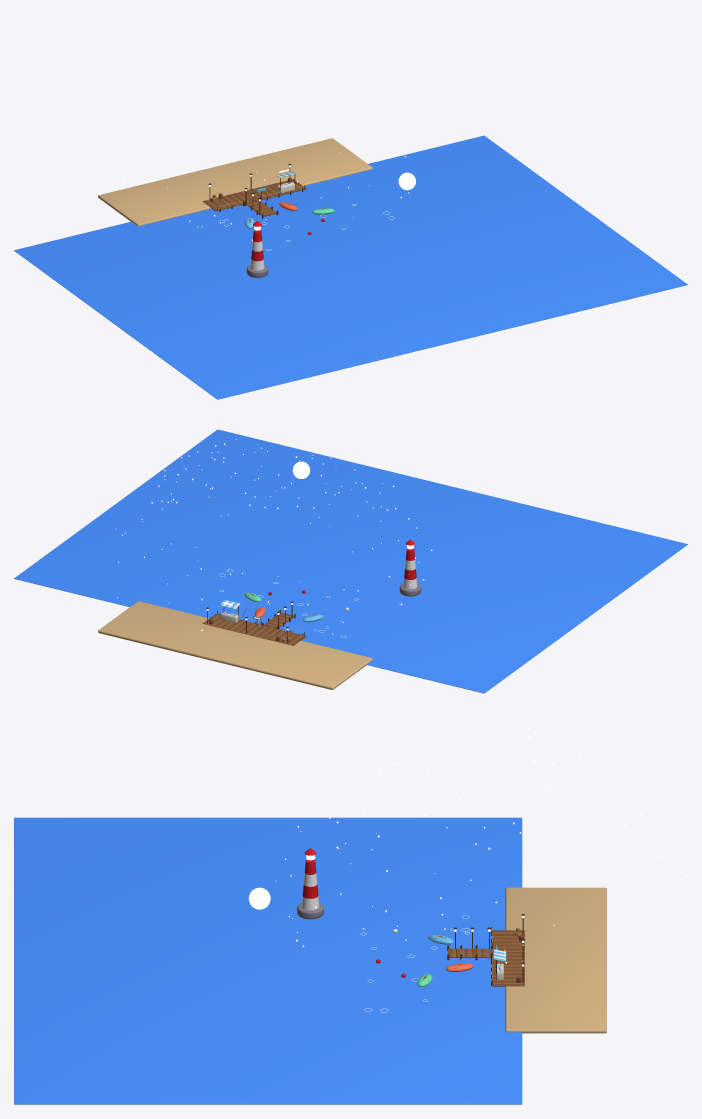
Rendered from room_port.glb.
3 views of the same model, one above another, from view 1: azimuth 30°, elevation 25°; view 2: azimuth 150°, elevation 25°; view 3: azimuth 270°, elevation 25° (orthographic). The views are drawn at different scales.
Visible parts, largest first — view 1: Water, Sand, Floor, Lighthouse; view 2: Water, Sand, Floor, Lighthouse; view 3: Water, Sand, Floor, Lighthouse.
Boxes of the visible parts, left/top/right/bottom form: Water: left=14, top=135, right=687, bottom=399; Sand: left=98, top=138, right=372, bottom=226; Floor: left=202, top=179, right=306, bottom=216; Lighthouse: left=246, top=220, right=268, bottom=277; Water: left=14, top=429, right=687, bottom=693; Sand: left=98, top=601, right=372, bottom=689; Floor: left=203, top=612, right=306, bottom=645; Lighthouse: left=399, top=539, right=421, bottom=596; Water: left=14, top=817, right=522, bottom=1104; Sand: left=505, top=887, right=606, bottom=1033; Floor: left=448, top=930, right=524, bottom=986; Lighthouse: left=297, top=848, right=323, bottom=919.
Bounding box in the file's own units: 80 × 28.67 × 79.55.
